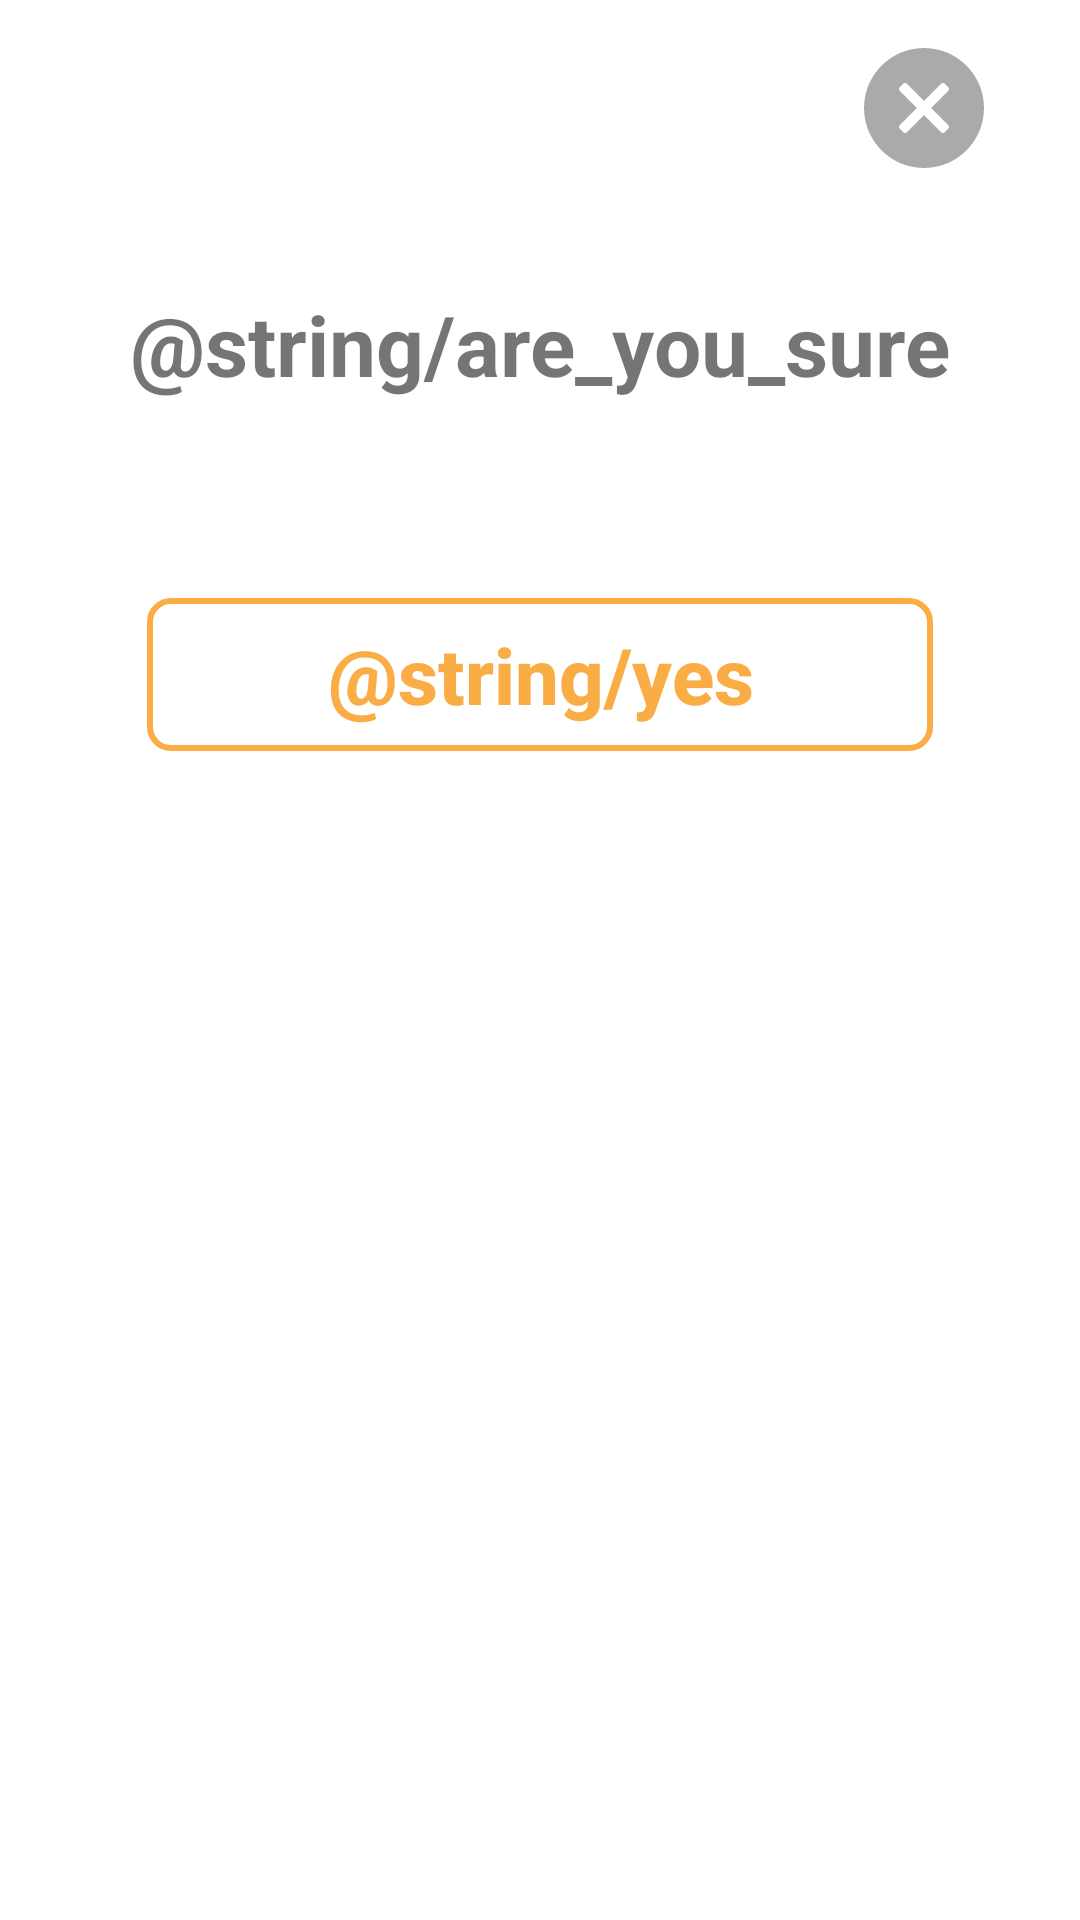

Named icons in this screenshot (1080*1920) and their centers, (x=x, y=y):
close: (x=924, y=108)
